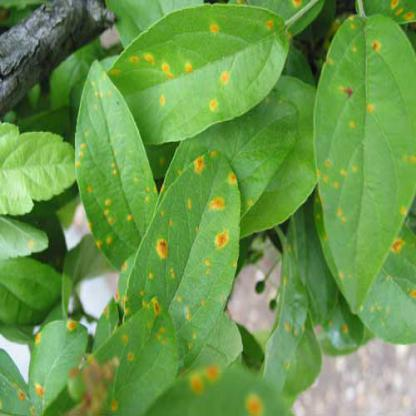apple rust leaf: (105, 135, 250, 377), (305, 10, 415, 328), (98, 10, 292, 133), (69, 58, 164, 282), (105, 300, 180, 415), (22, 306, 97, 415)
